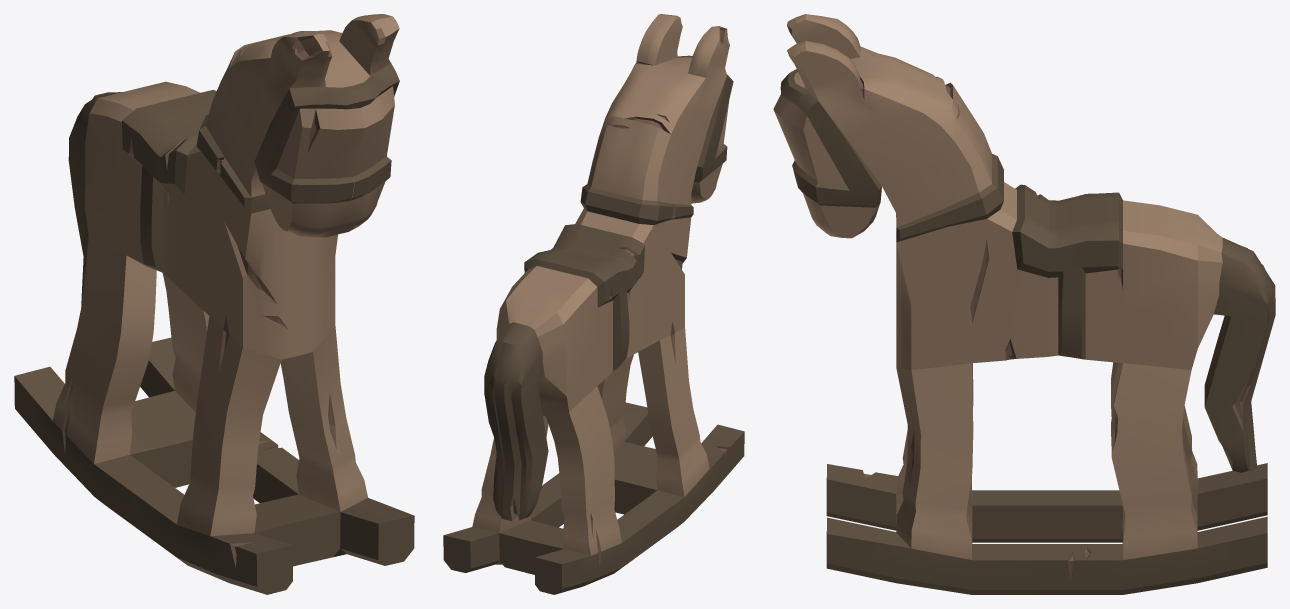
Rendered from RockingHouse.fbx.
3 views of the same model, side by side, from view 1: azimuth 30°, elevation 25°; view 2: azimuth 150°, elevation 25°; view 3: azimuth 270°, elevation 25° (orthographic). The views are drawn at different scales.
Visible parts, largest first — view 1: Cube; view 2: Cube; view 3: Cube.
Boxes of the visible parts, x1,y1,x2,y2 form: Cube: [14, 14, 414, 594]; Cube: [443, 14, 744, 594]; Cube: [773, 14, 1275, 594].
Size of the model in its own units: 83.84 by 299 by 254.
